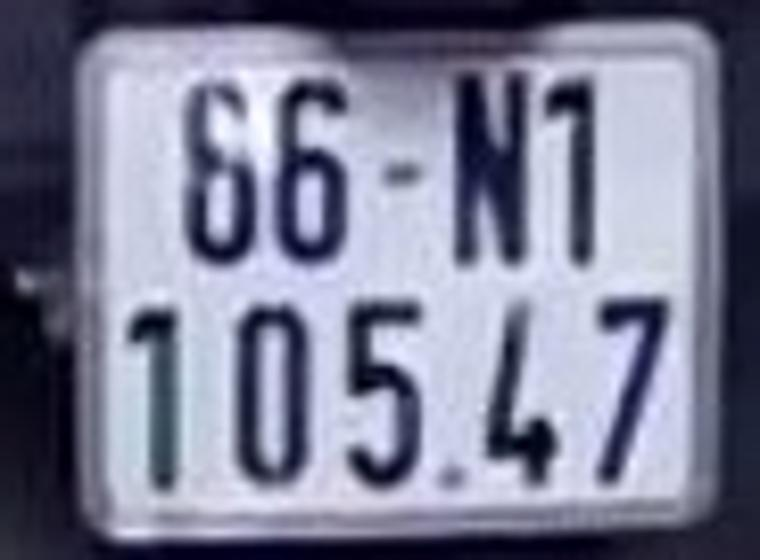-: (372, 156, 437, 189)
.: (440, 456, 475, 501)
0: (232, 306, 321, 487)
1: (547, 70, 607, 274), (130, 300, 187, 488)
4: (481, 302, 565, 490)
5: (346, 297, 427, 494)
6: (276, 72, 352, 268), (180, 80, 256, 258)
7: (588, 291, 670, 485)
N: (446, 66, 536, 267)
